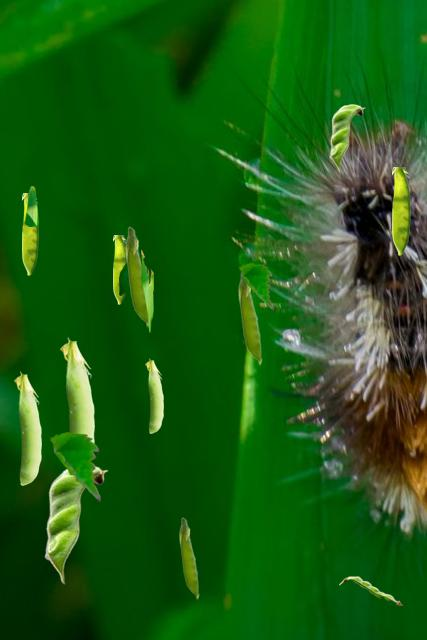pea: (44, 466, 107, 583), (60, 337, 93, 475), (14, 371, 40, 484), (329, 104, 364, 172), (125, 226, 147, 326), (238, 274, 261, 364), (339, 576, 401, 604), (179, 517, 198, 598), (392, 167, 409, 254), (145, 358, 162, 432), (22, 193, 37, 274), (113, 235, 125, 303)
